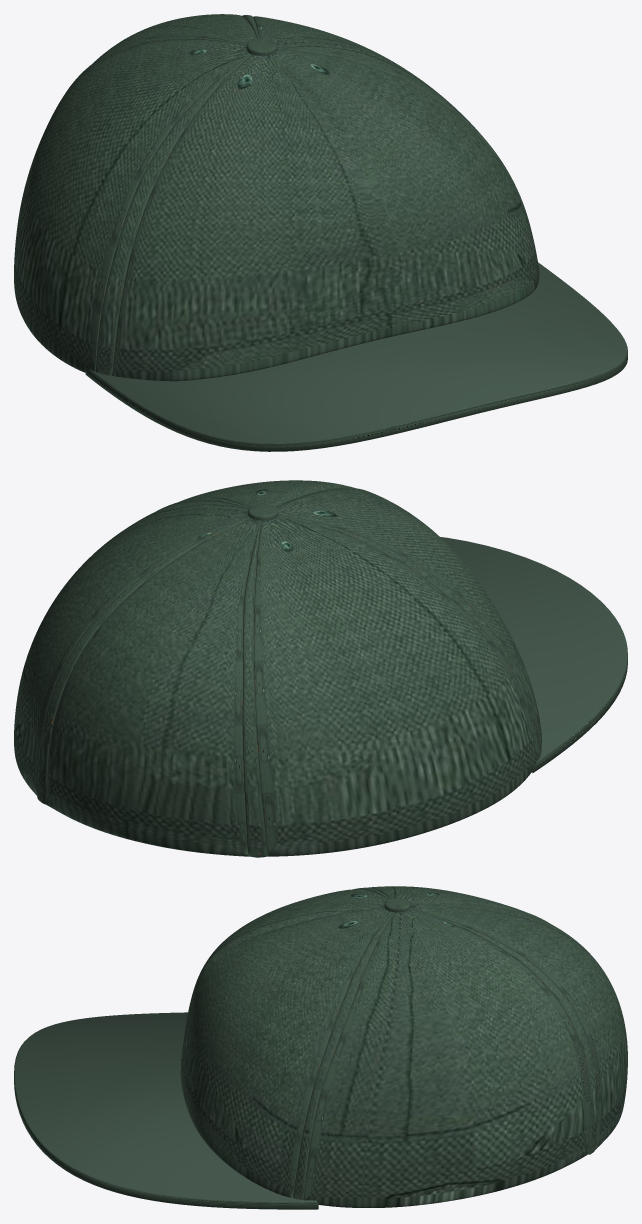
File: Gorra.fbx
3 renders of one model, top to bottom at view 1: azimuth 30°, elevation 25°; view 2: azimuth 150°, elevation 25°; view 3: azimuth 270°, elevation 25°, orthographic. The views are drawn at different scales.
Visible parts, largest first — view 1: Cap_1_2; view 2: Cap_1_2; view 3: Cap_1_2.
Boxes of the visible parts, x1,y1,x2,y2 form: Cap_1_2: [14, 14, 627, 451]; Cap_1_2: [14, 480, 627, 857]; Cap_1_2: [14, 886, 627, 1209].
Size of the model in its own units: 410 by 211 by 555.
